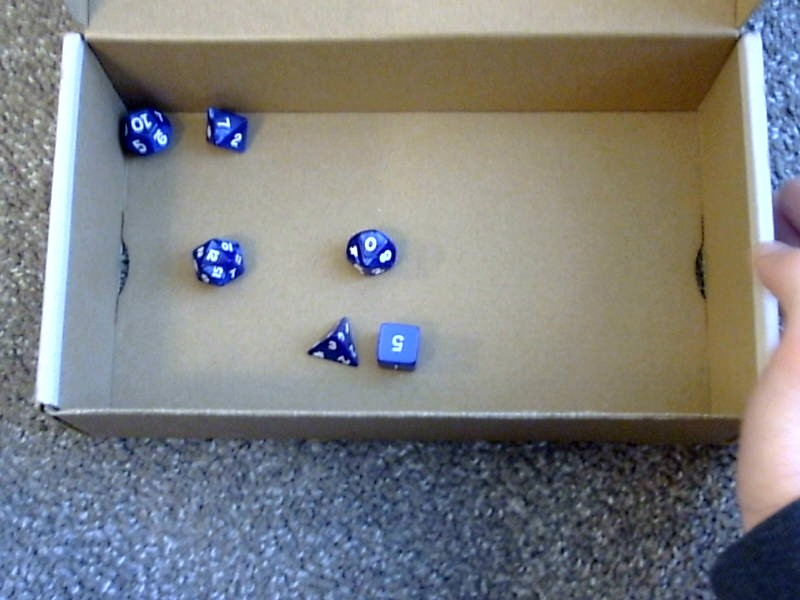d10 10: (343, 226, 399, 278)
d12 10: (117, 99, 173, 159)
d20 12: (189, 234, 245, 288)
d4 3: (304, 310, 360, 368)
d6 5: (373, 318, 426, 374)
d8 7: (200, 104, 251, 154)
